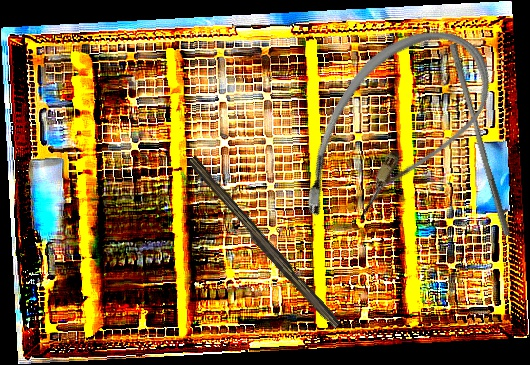Cannula: (279, 0, 510, 261)
Pusher: (442, 42, 519, 237)
Scalpel Handle: (182, 155, 344, 332)
